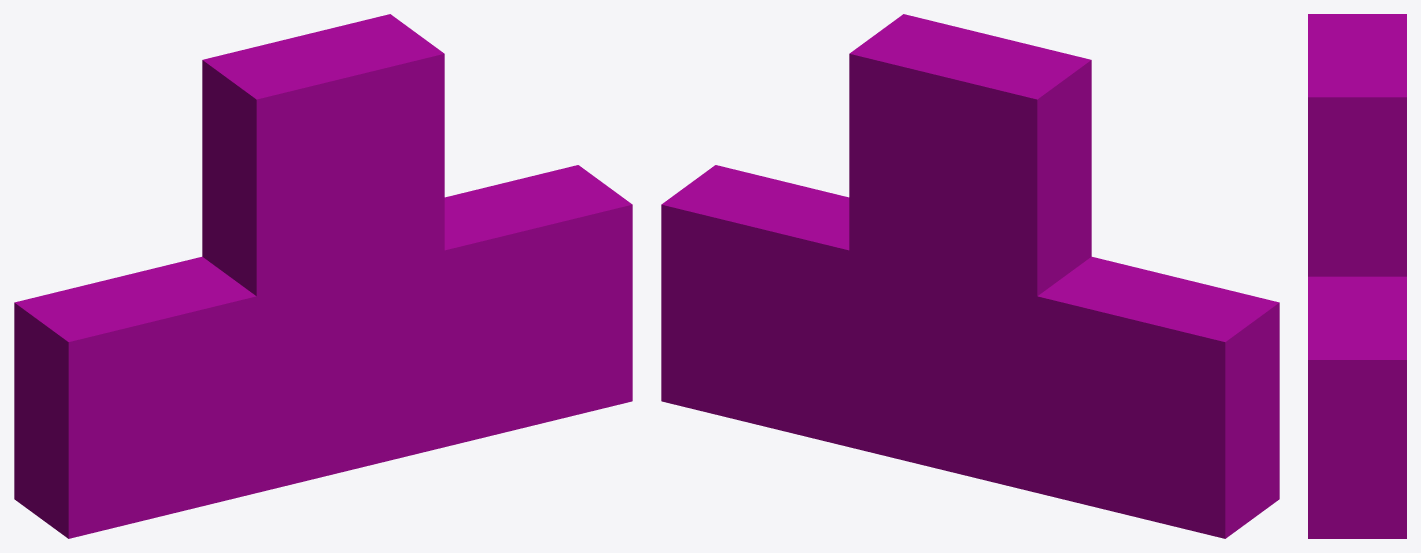
File: TETRIS.vox-1.obj
The picture shows the model from 3 angles, left to right: view 1: azimuth 30°, elevation 25°; view 2: azimuth 150°, elevation 25°; view 3: azimuth 270°, elevation 25°; orthographic projection. The views are drawn at different scales.
Bounding box in the file's own units: 0.6 × 0.4 × 0.1.
Materials: 1 (1 with a texture image).
